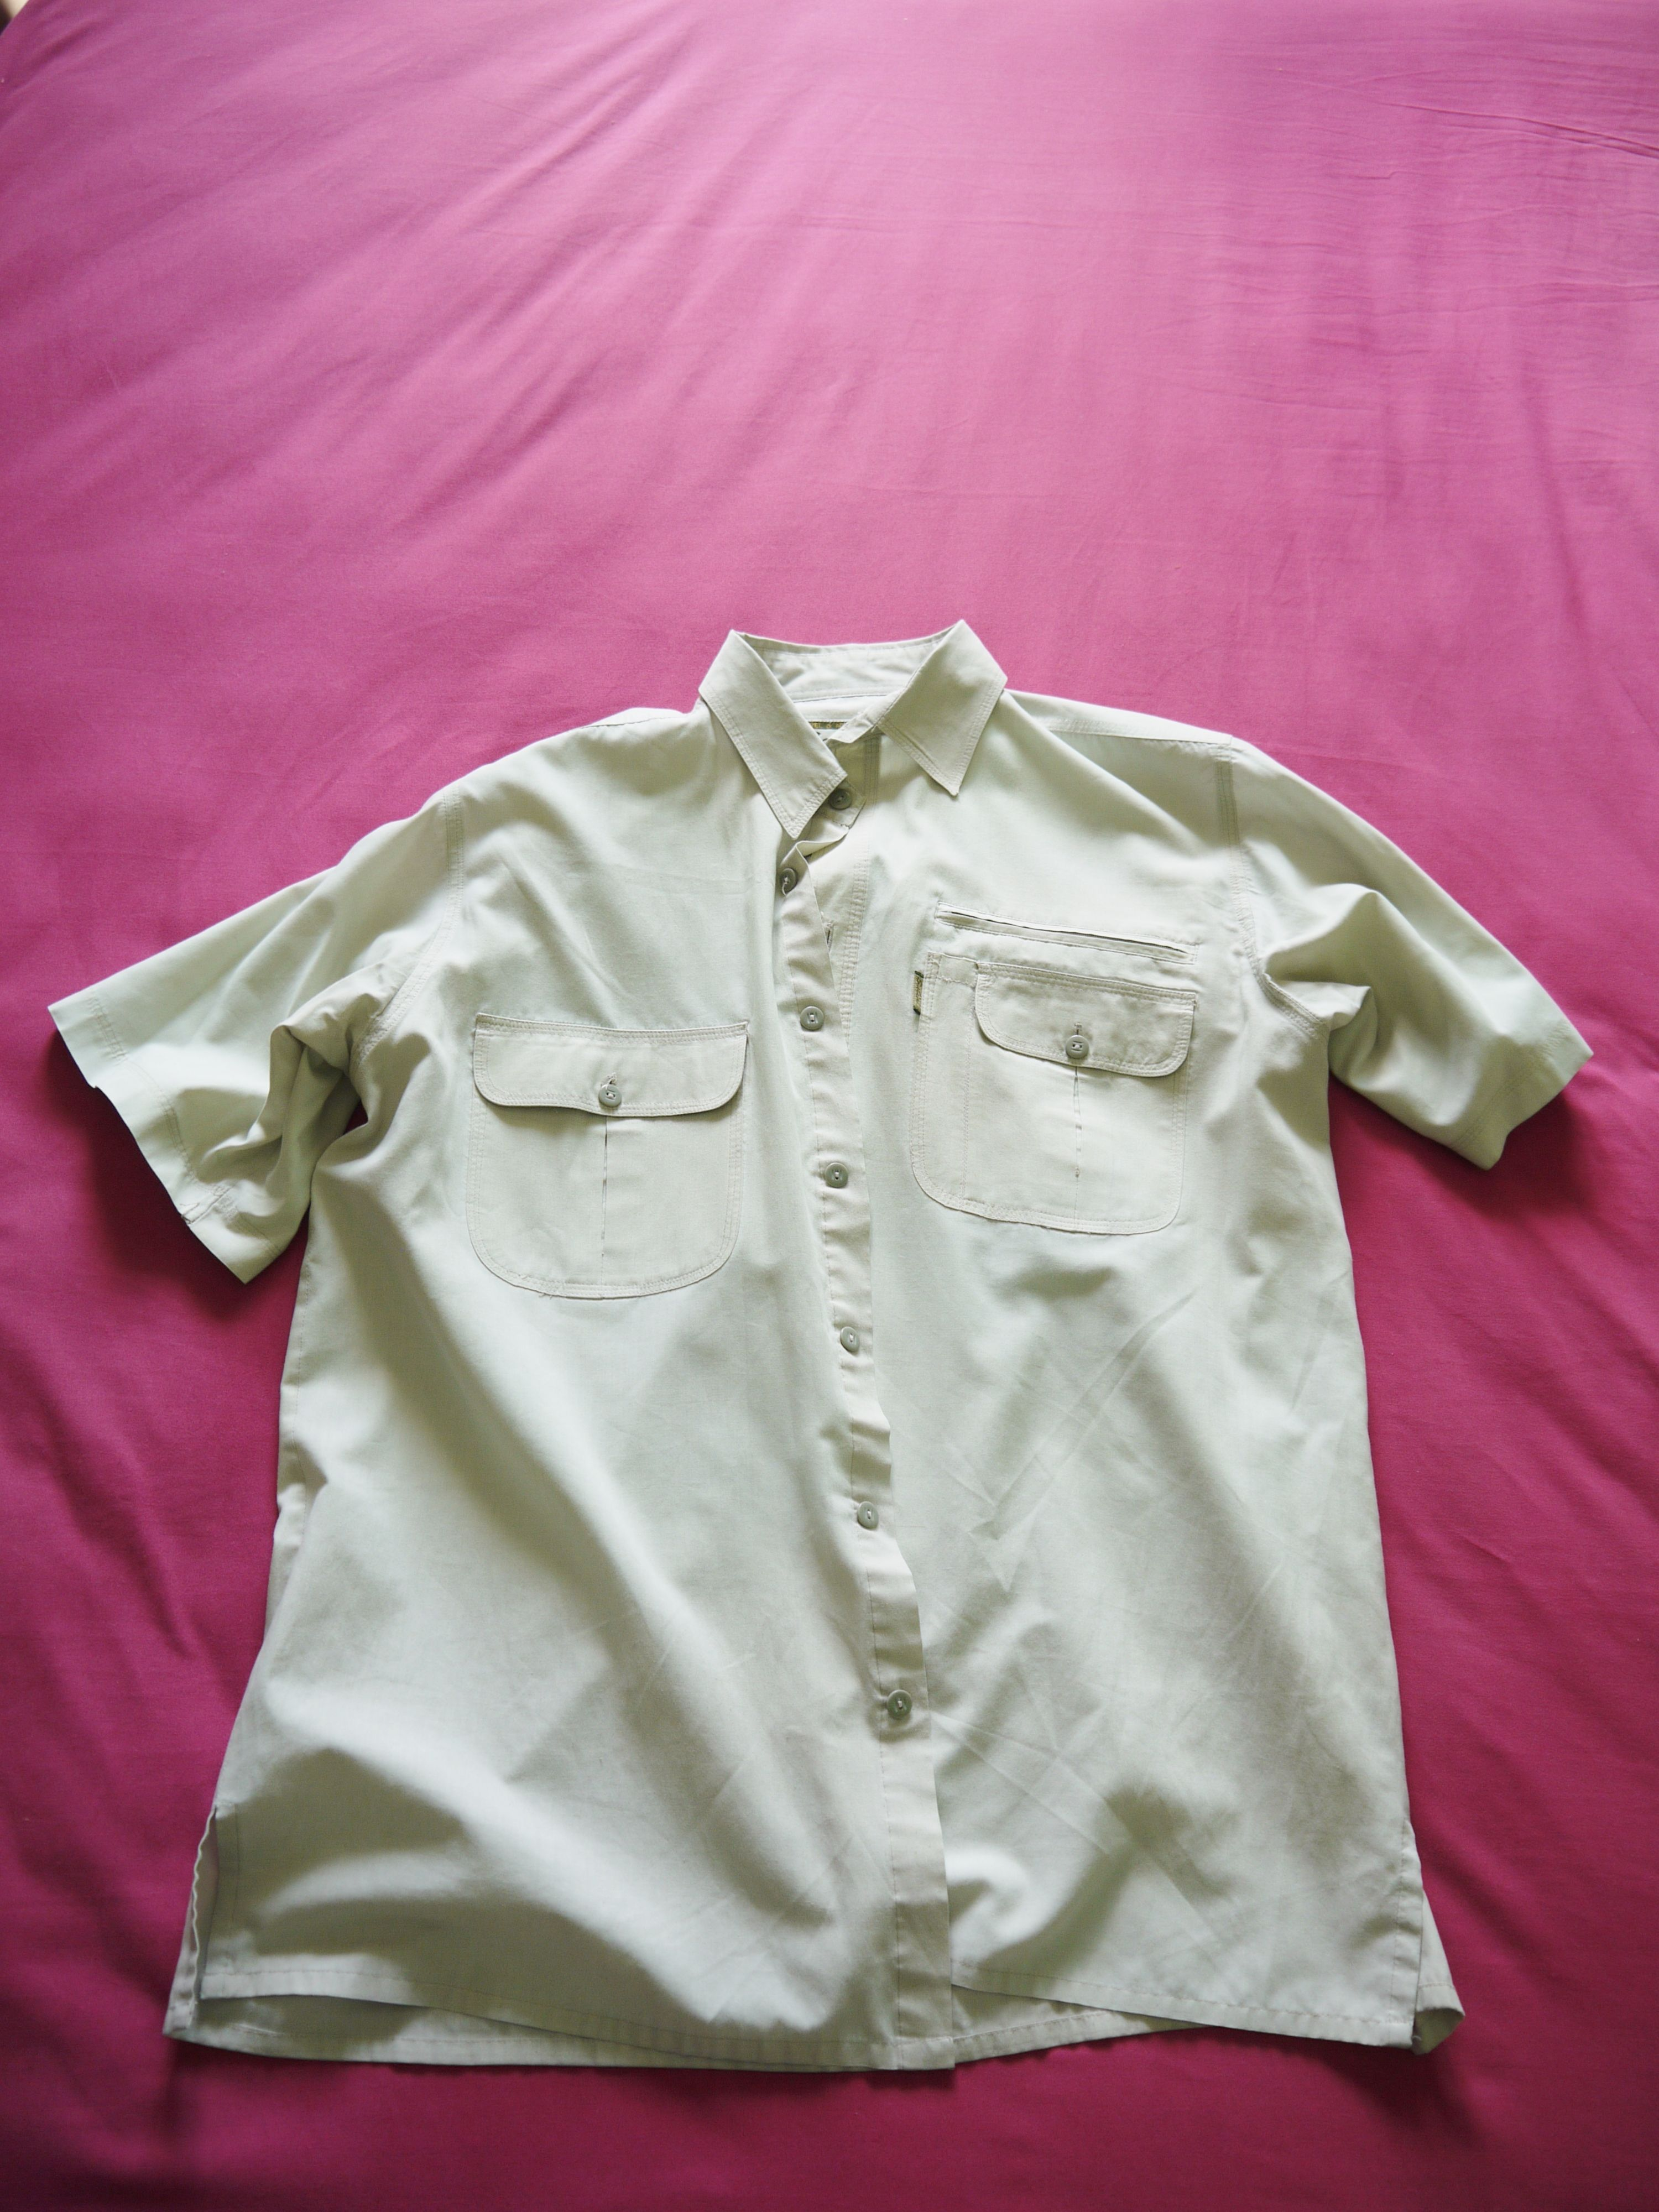clothes: (33, 620, 1568, 2114)
